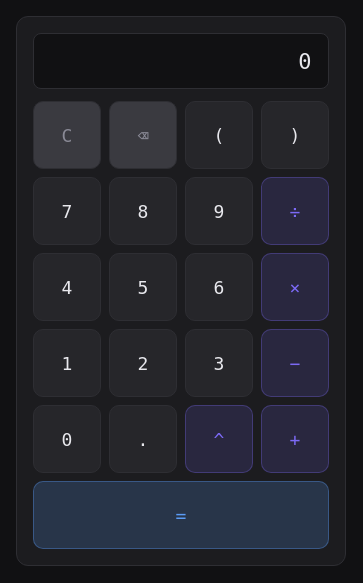
Test: Calculator › builds expression on digit clicks
Click the button "4": (67,287) [33,253,101,321]
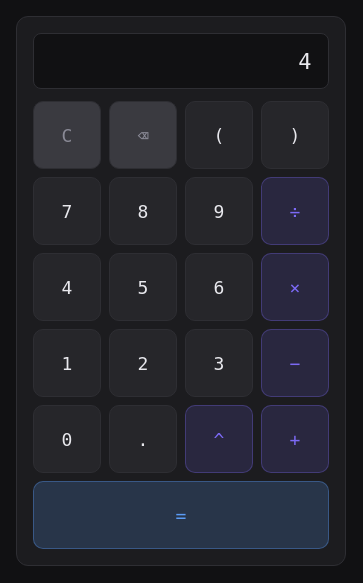
Click the button "2": (143,363) [109,329,177,397]
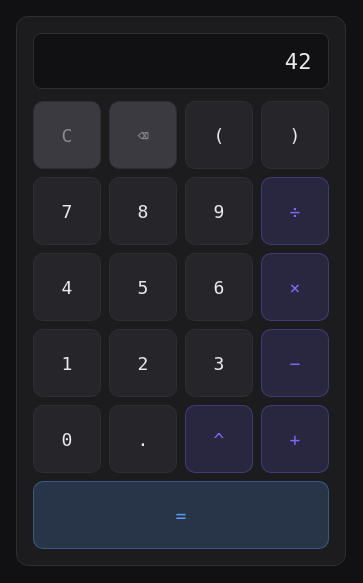
Check: the text "42" is shown, box [285,48,312,74]
